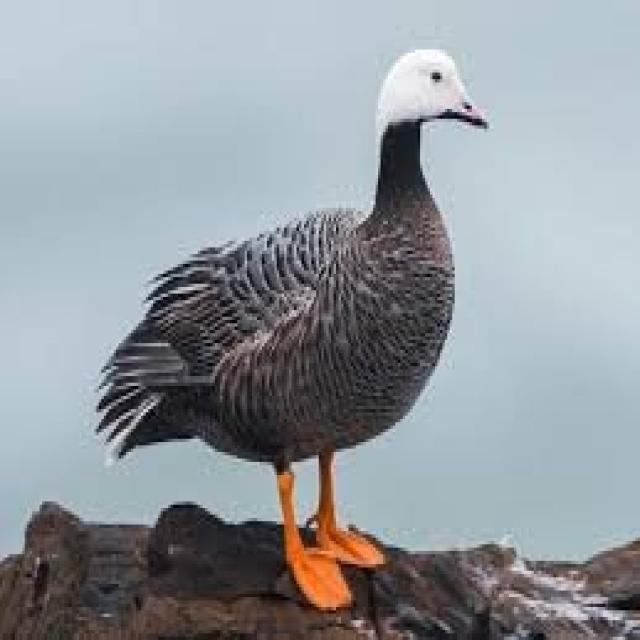Goose: (102, 44, 496, 609)
